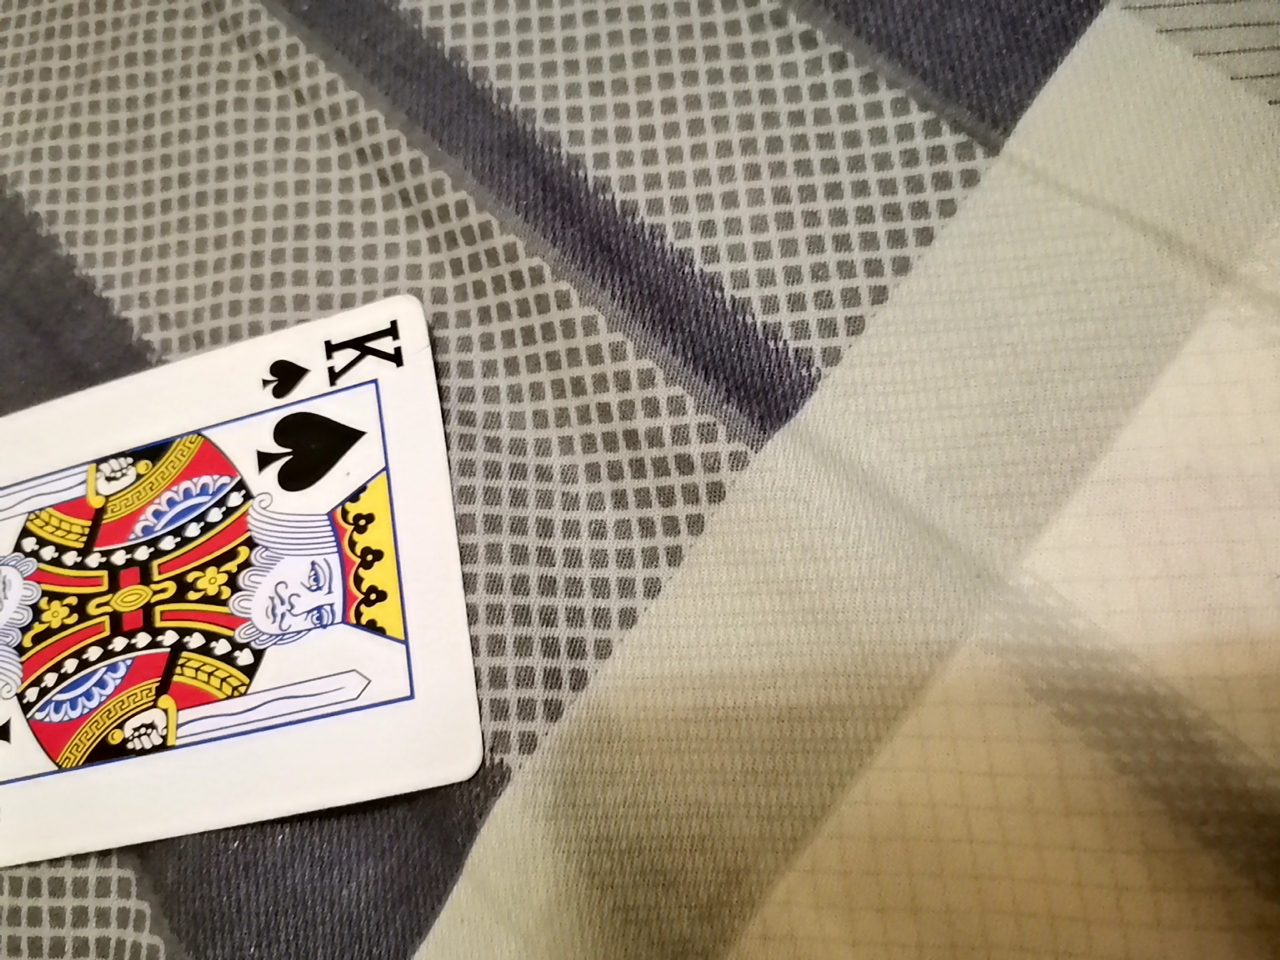ht k: (2, 280, 482, 911)
